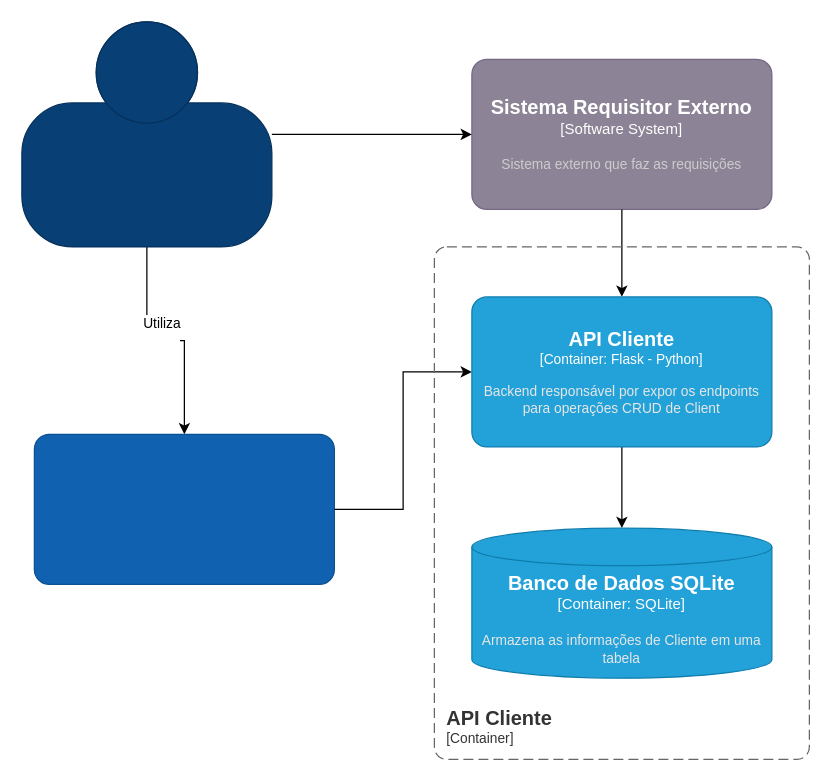
This 831x781 diagram has some shape labels left out. Here are the shapes that lost their labels. From the top down, the box of each, then its label:
(21, 21, 272, 247): Usuário requisitor [Person] Usuário que faz a requisição
(33, 433, 334, 584): Sistema Requisitor Interno [Software System] Sistema interno que faz requisições
